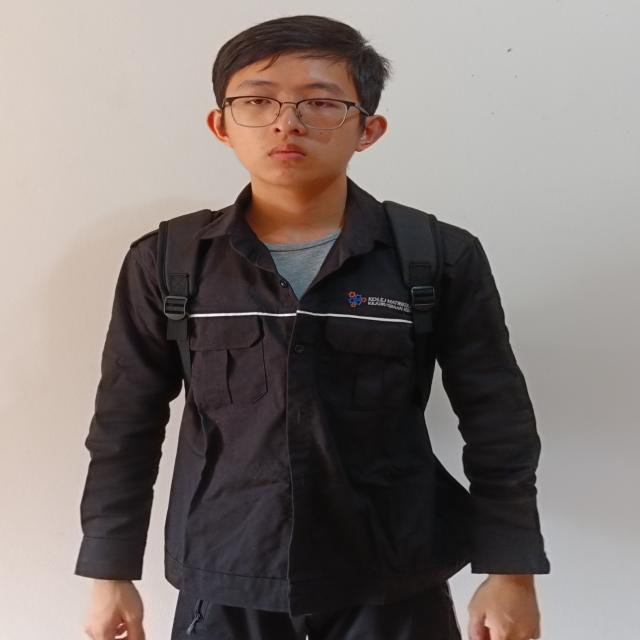person_with_labcoat: (77, 16, 549, 640)
